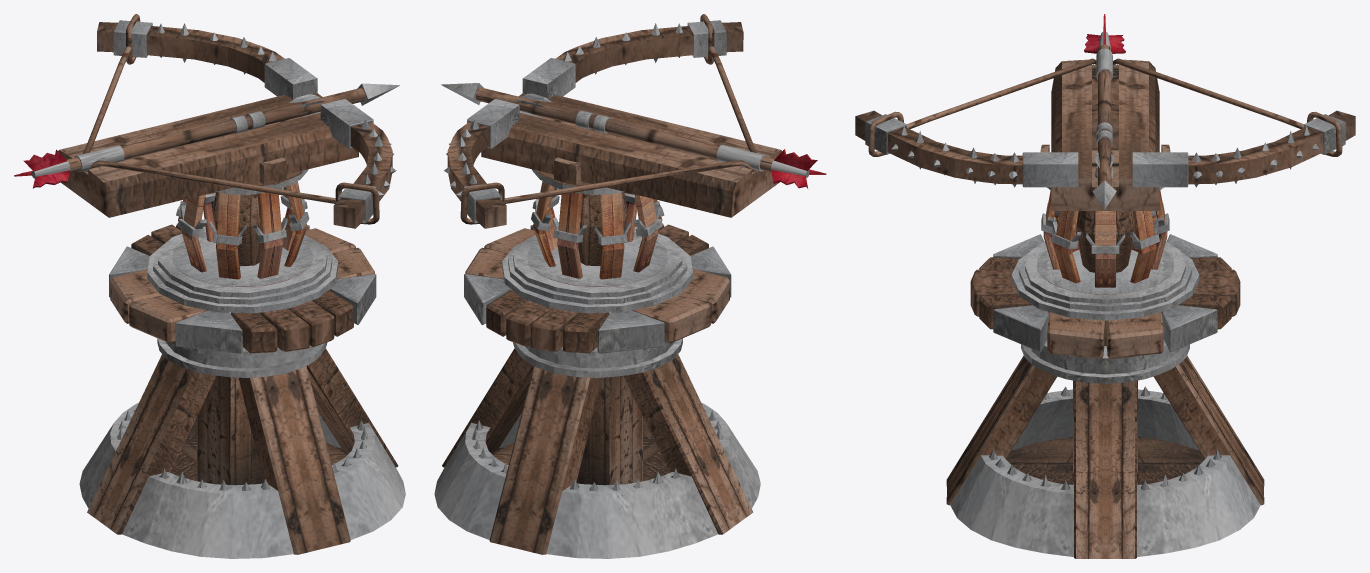
Rendered from XbowUpgrade1.fbx.
3 renders of one model, left to right at view 1: azimuth 30°, elevation 25°; view 2: azimuth 150°, elevation 25°; view 3: azimuth 270°, elevation 25°, orthographic. The views are drawn at different scales.
Visible parts, largest first — view 1: Base_Foundation_Xbow, Turret_Xbow, Turret_Foundation_Xbow, Arrow; view 2: Base_Foundation_Xbow, Turret_Xbow, Turret_Foundation_Xbow, Arrow; view 3: Base_Foundation_Xbow, Turret_Xbow, Turret_Foundation_Xbow, Arrow.
Part boxes in pixels (x1,y1,x2,y2): Base_Foundation_Xbow: (79,222,405,558); Turret_Xbow: (58,14,396,228); Turret_Foundation_Xbow: (172,169,312,286); Arrow: (14,83,399,188); Base_Foundation_Xbow: (434,222,760,558); Turret_Xbow: (444,14,782,228); Turret_Foundation_Xbow: (527,169,667,286); Arrow: (441,83,826,188); Base_Foundation_Xbow: (946,234,1264,558); Turret_Xbow: (855,58,1355,210); Turret_Foundation_Xbow: (1036,187,1174,294); Arrow: (1084,14,1125,209).
Size of the model in its own units: 263 by 258 by 309.
